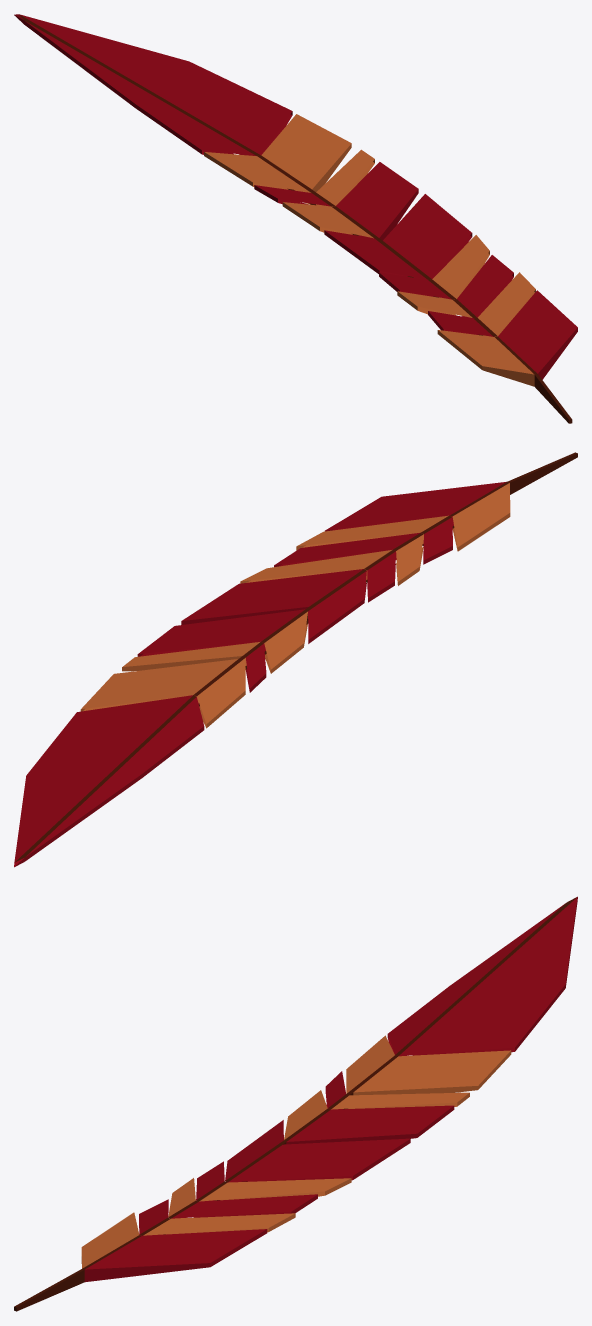
Rendered from Ingredient_Feather.fbx.
The picture shows the model from 3 angles, top to bottom: view 1: azimuth 30°, elevation 25°; view 2: azimuth 150°, elevation 25°; view 3: azimuth 330°, elevation 25°; orthographic projection.
Parts seen in each view (by area): view 1: Cube; view 2: Cube; view 3: Cube.
Boxes of the visible parts, x1,y1,x2,y2 form: Cube: (14, 14, 577, 423); Cube: (14, 452, 577, 867); Cube: (14, 896, 577, 1311).
Bounding box in the file's own units: 21.78 × 1.94 × 157.
